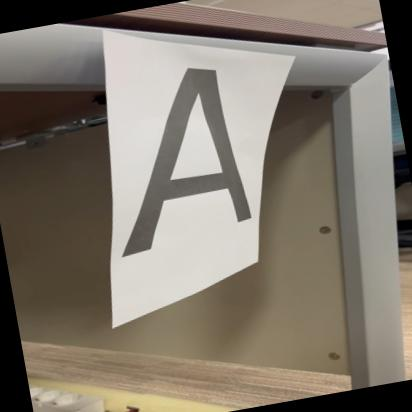seat: (79, 42, 318, 266)
